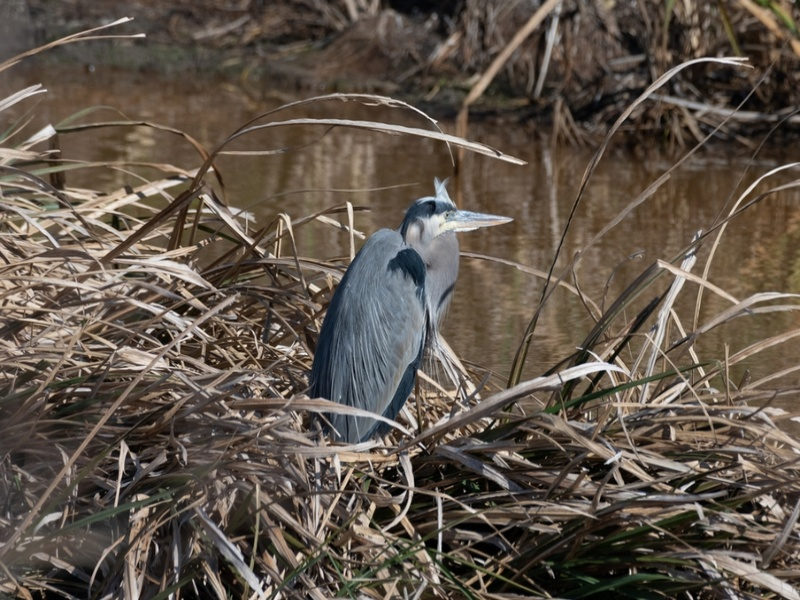heron: (310, 194, 517, 451)
